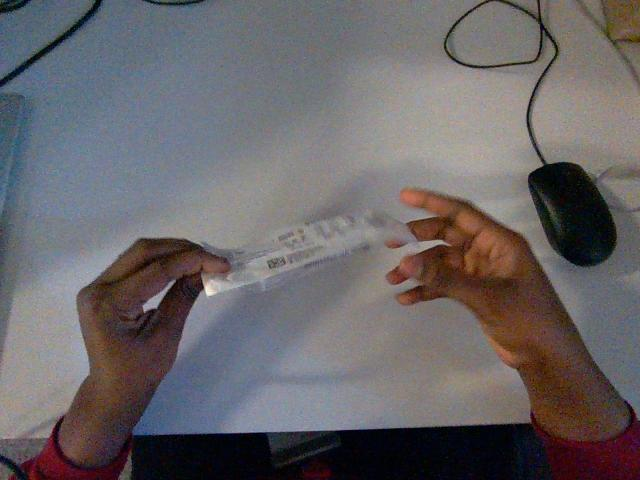syringe: (202, 211, 416, 295)
